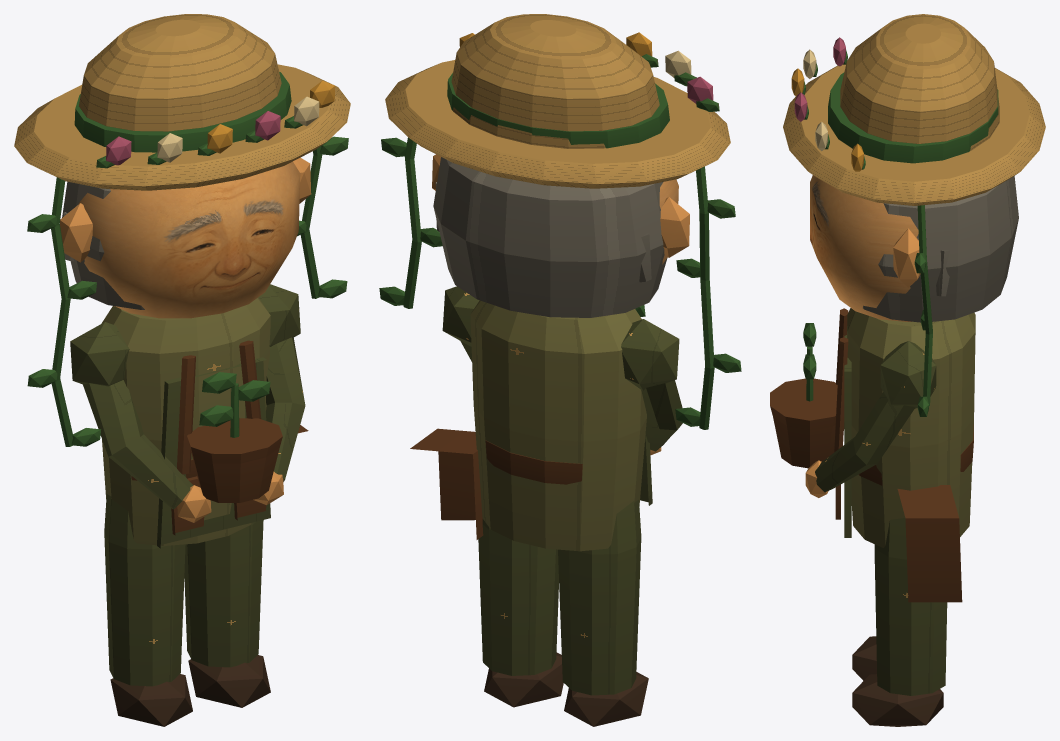
Rendered from niko-v01.glb.
3 views of the same model, side by side, from view 1: azimuth 30°, elevation 25°; view 2: azimuth 150°, elevation 25°; view 3: azimuth 270°, elevation 25° (orthographic). The views are drawn at different scales.
Visible parts, largest first — view 1: skull, hat_crown, torso, hat_brim, trouser_l, trouser_r, plant_pot, arm_l, hat_band, apron_panel, arm_r, shoulder_l (+18 smaller); view 2: torso, hair_back, hat_crown, hat_brim, trouser_l, trouser_r, seed_pouch, hat_band, shoulder_l, trailing_vine_0, boot_l, boot_r (+6 smaller); view 3: torso, hat_crown, hat_brim, hair_back, skull, trouser_r, seed_pouch, plant_pot, arm_r, hat_band, boot_r, shoulder_r (+6 smaller).
Part boxes in pixels (<box>): skull: <box>78,161,300,318</box>; hat_crown: <box>79,14,281,131</box>; torso: <box>101,297,270,545</box>; hat_brim: <box>14,64,350,190</box>; trouser_l: <box>104,494,185,686</box>; trouser_r: <box>184,520,263,667</box>; plant_pot: <box>187,418,282,502</box>; arm_l: <box>83,380,193,509</box>; hat_band: <box>74,72,291,152</box>; apron_panel: <box>157,357,270,548</box>; arm_r: <box>266,337,305,481</box>; shoulder_l: <box>70,322,129,386</box>; torso: <box>470,300,646,551</box>; hair_back: <box>433,157,667,317</box>; hat_crown: <box>451,14,659,148</box>; hat_brim: <box>385,60,730,188</box>; trouser_l: <box>558,499,641,695</box>; trouser_r: <box>478,519,558,675</box>; seed_pouch: <box>410,428,483,539</box>; hat_band: <box>447,73,669,148</box>; shoulder_l: <box>621,319,679,390</box>; trailing_vine_0: <box>696,166,714,429</box>; boot_l: <box>564,672,648,726</box>; boot_r: <box>484,652,563,707</box>; torso: <box>847,308,975,547</box>; hat_crown: <box>840,14,999,150</box>; hat_brim: <box>783,64,1045,205</box>; hair_back: <box>863,176,1018,322</box>; skull: <box>810,175,918,321</box>; trouser_r: <box>874,518,947,695</box>; seed_pouch: <box>897,485,962,602</box>; plant_pot: <box>770,378,844,468</box>; arm_r: <box>815,392,915,492</box>; hat_band: <box>828,72,998,163</box>; boot_r: <box>852,674,943,726</box>; shoulder_r: <box>880,341,936,408</box>.
Bounding box in the file's own units: 1.3 × 2.49 × 0.9231.
Materials: 2 (2 with a texture image).
